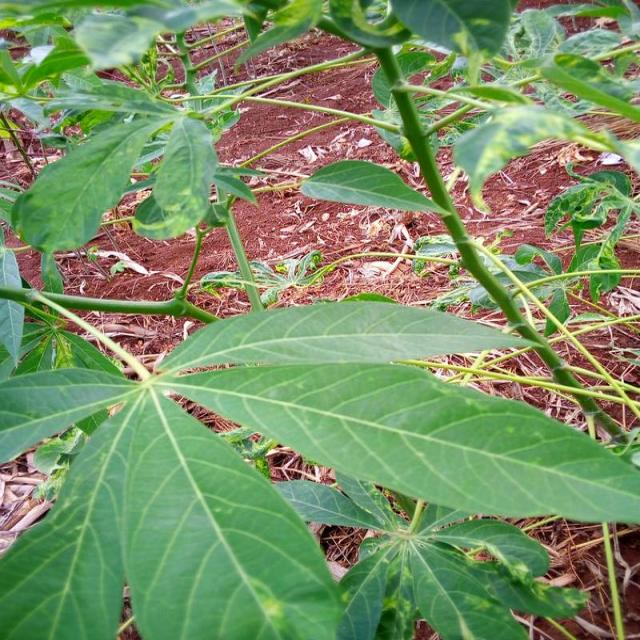cassava leaf: (153, 358, 639, 526)
